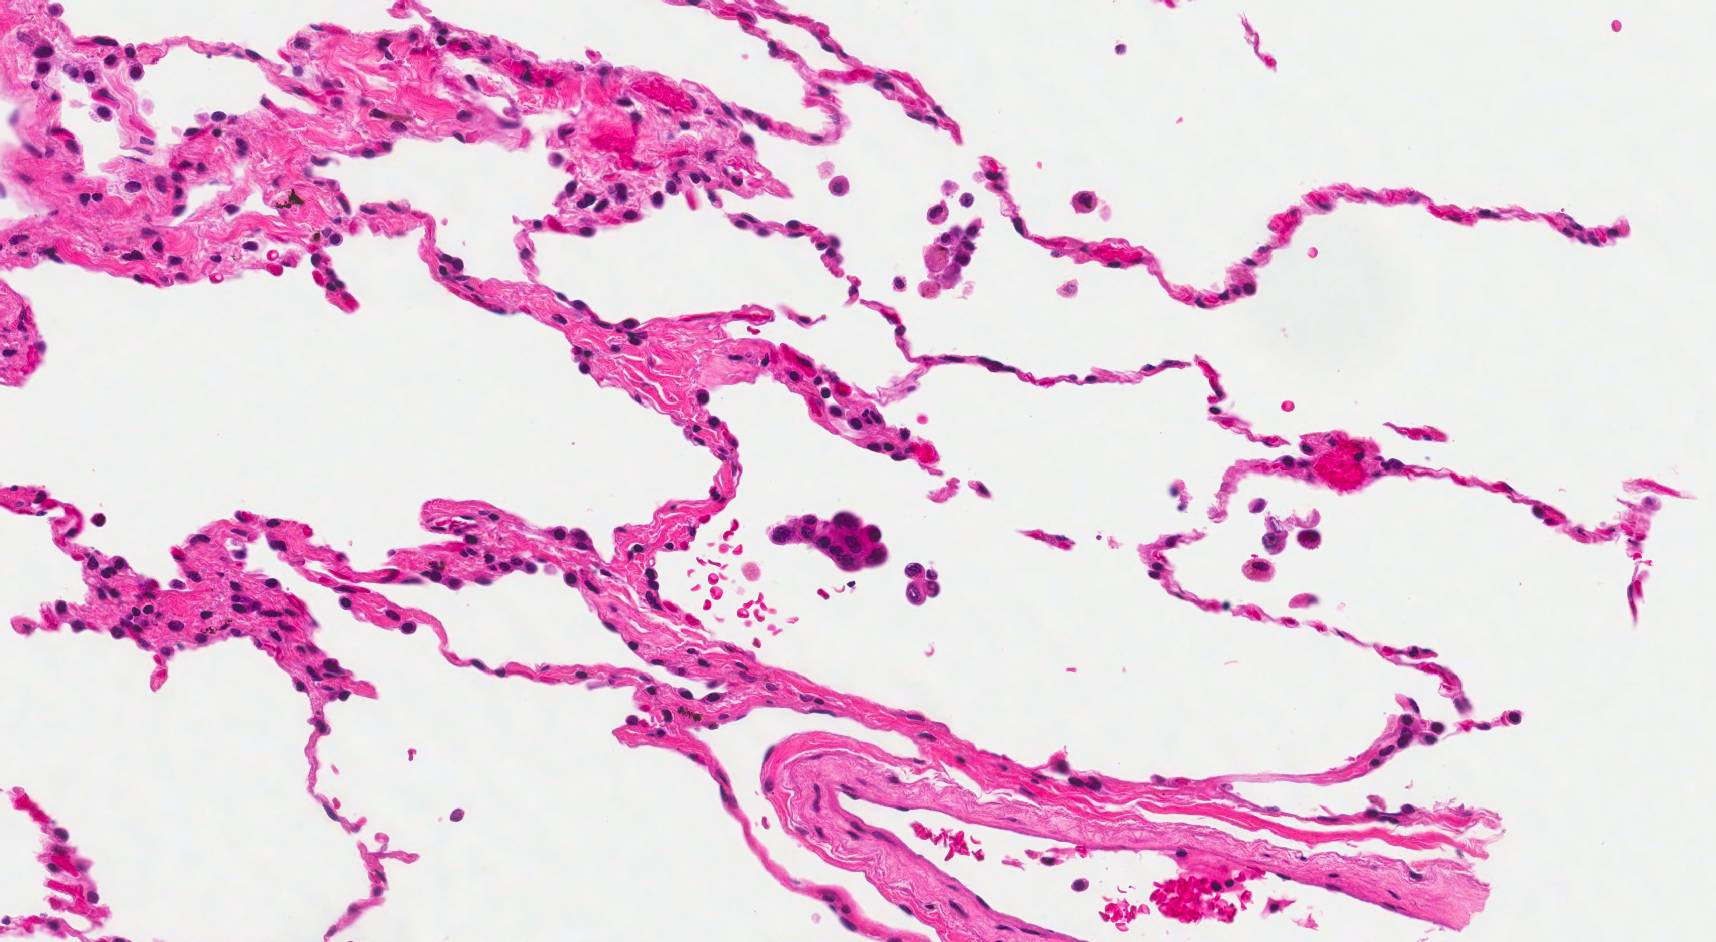stas: (763, 505, 889, 574), (901, 559, 939, 606)
